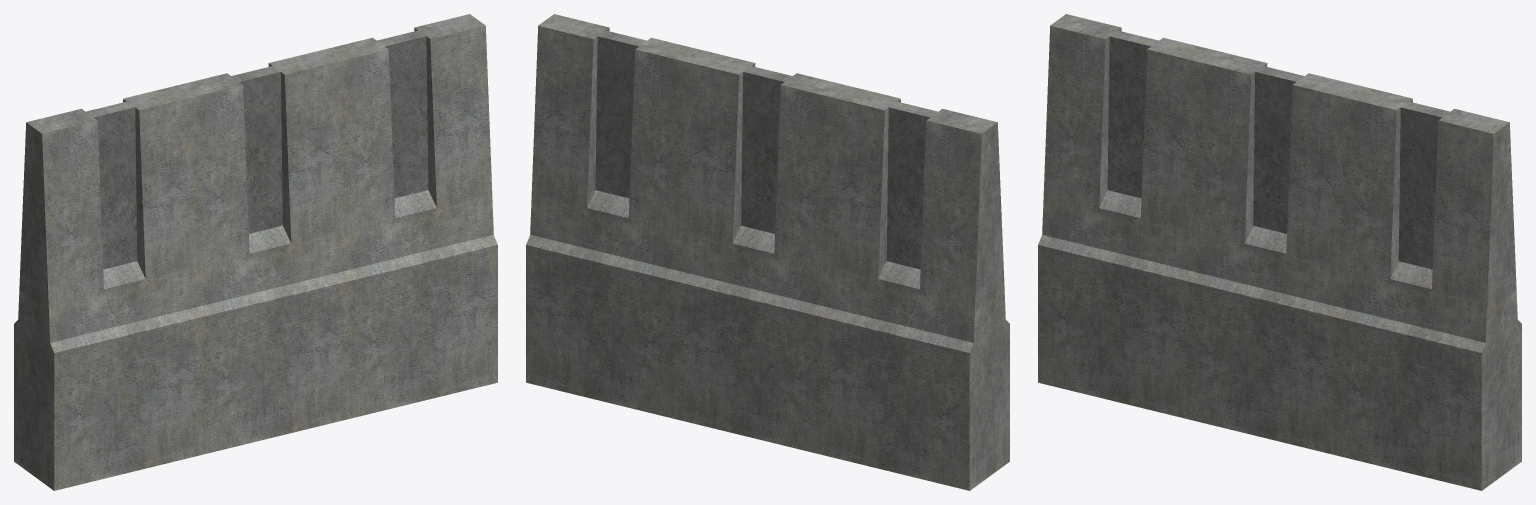
Rendered from mun_all_military_wall_weak_impl_s01_l0.fbx.
3 views of the same model, side by side, from view 1: azimuth 30°, elevation 25°; view 2: azimuth 150°, elevation 25°; view 3: azimuth 330°, elevation 25° (orthographic).
Parts seen in each view (by area): view 1: mesh_node; view 2: mesh_node; view 3: mesh_node.
Part boxes in pixels (x1,y1,x2,y2): mesh_node: (14, 14, 497, 490); mesh_node: (526, 14, 1009, 490); mesh_node: (1038, 14, 1521, 490).
Size of the model in its own units: 8 by 6 by 1.25.
